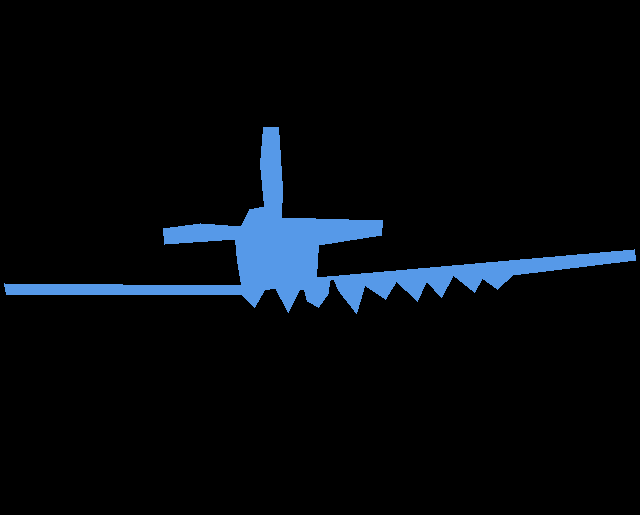Airplane: (4, 127, 635, 314)
